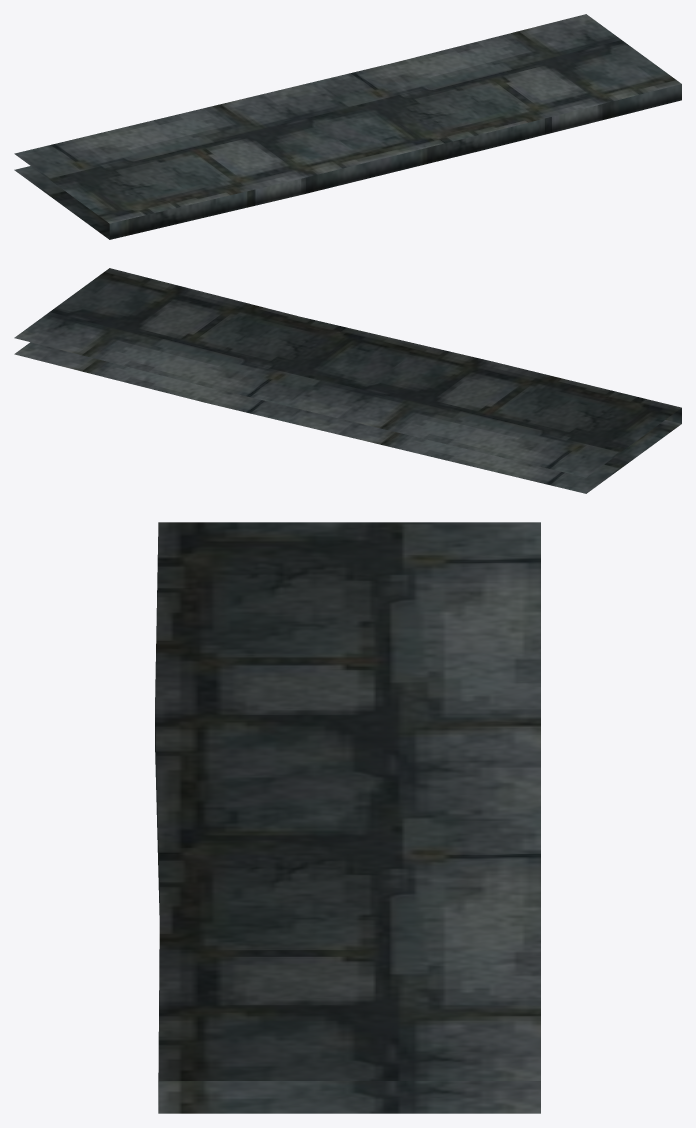
The model's file is dark stone shelf2.glb.
3 renders of one model, top to bottom at view 1: azimuth 30°, elevation 25°; view 2: azimuth 150°, elevation 25°; view 3: azimuth 270°, elevation 25°, orthographic. The views are drawn at different scales.
Parts seen in each view (by area): view 1: Wood Shelf for Niche.002; view 2: Wood Shelf for Niche.002; view 3: Wood Shelf for Niche.002.
Boxes of the visible parts, <box> form: Wood Shelf for Niche.002: <box>14,14,681,239</box>; Wood Shelf for Niche.002: <box>14,268,681,493</box>; Wood Shelf for Niche.002: <box>155,522,540,1113</box>.
Size of the model in its own units: 1.4 by 0.0423 by 0.4101.
Materials: 1 (1 with a texture image).
